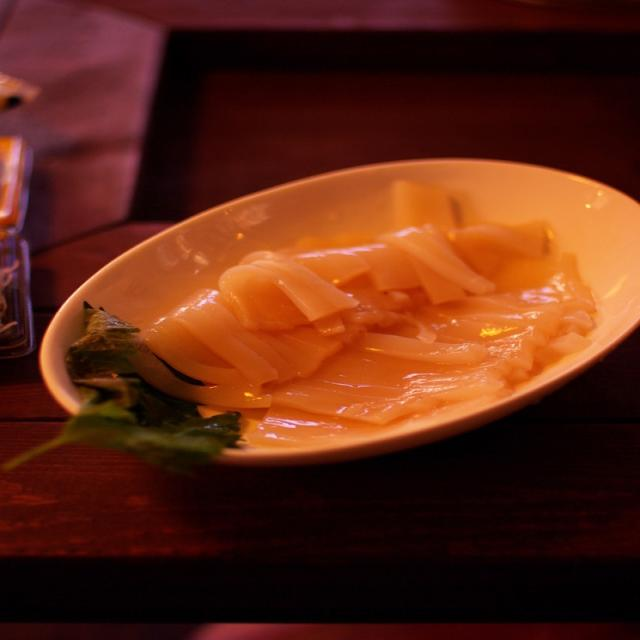刺身生食: (0, 78, 640, 257)
